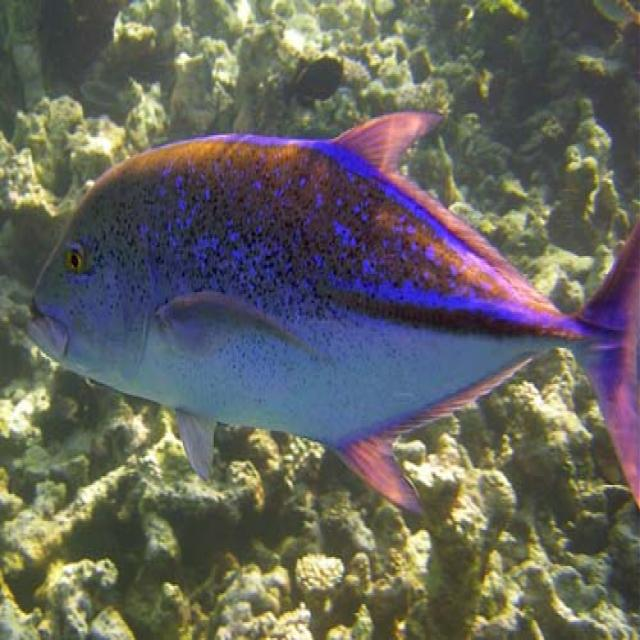ikan: (24, 106, 639, 521)
